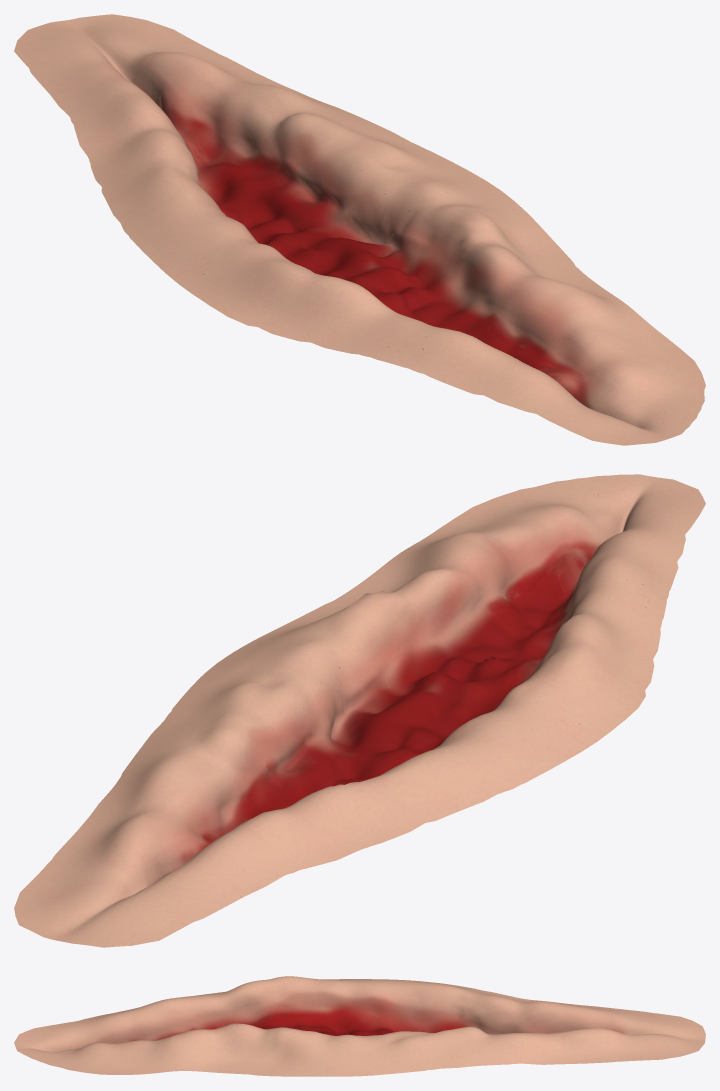
Rendered from Stage_5.glb.
3 views of the same model, one above another, from view 1: azimuth 30°, elevation 25°; view 2: azimuth 150°, elevation 25°; view 3: azimuth 270°, elevation 25° (orthographic). The views are drawn at different scales.
Visible parts, largest first — view 1: Wound.001; view 2: Wound.001; view 3: Wound.001.
Boxes of the visible parts, box(x1,y1,x2,y2) form: Wound.001: box(14, 14, 705, 445); Wound.001: box(14, 474, 705, 947); Wound.001: box(14, 976, 705, 1076).
Size of the model in its own units: 0.5887 by 0.1319 by 1.76.
1 material, 1 textured.
